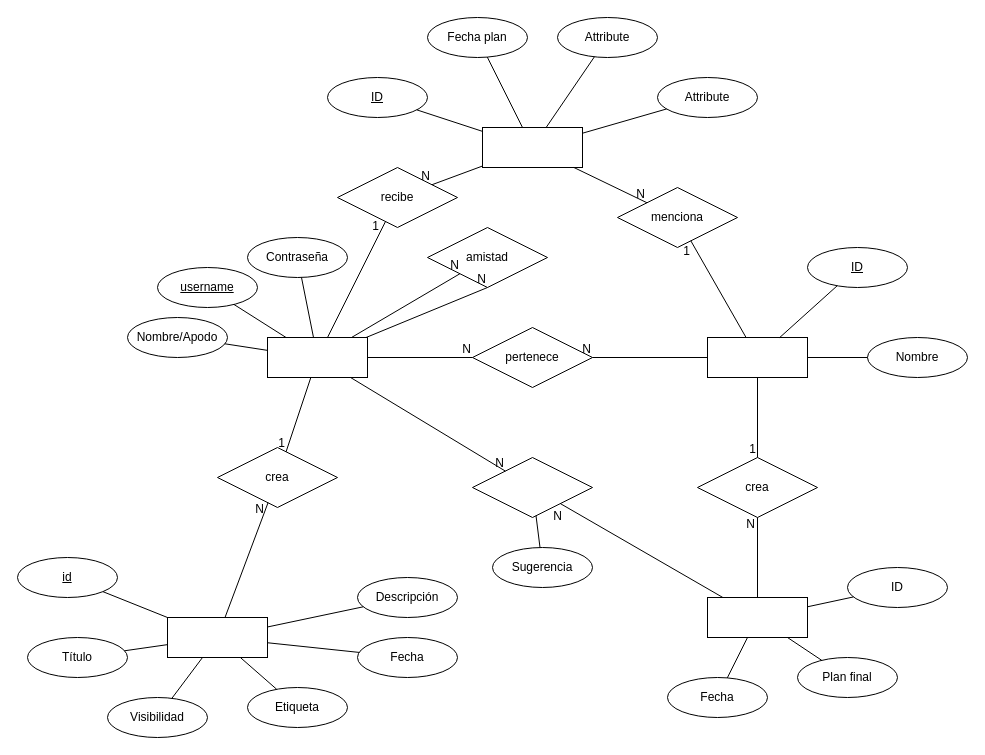
Some shapes in this 985 by 755 pixel diagram are drawn without their labels. Here are the shapes that lost their labels. From the top down, the centre of each, then its label:
the point at 532,147: Notificación
the point at 317,357: USUARIO
the point at 757,357: GRUPO
the point at 532,487: acude
the point at 217,637: EVENTO PERSONAL
the point at 757,617: EVENTO GRUPAL
